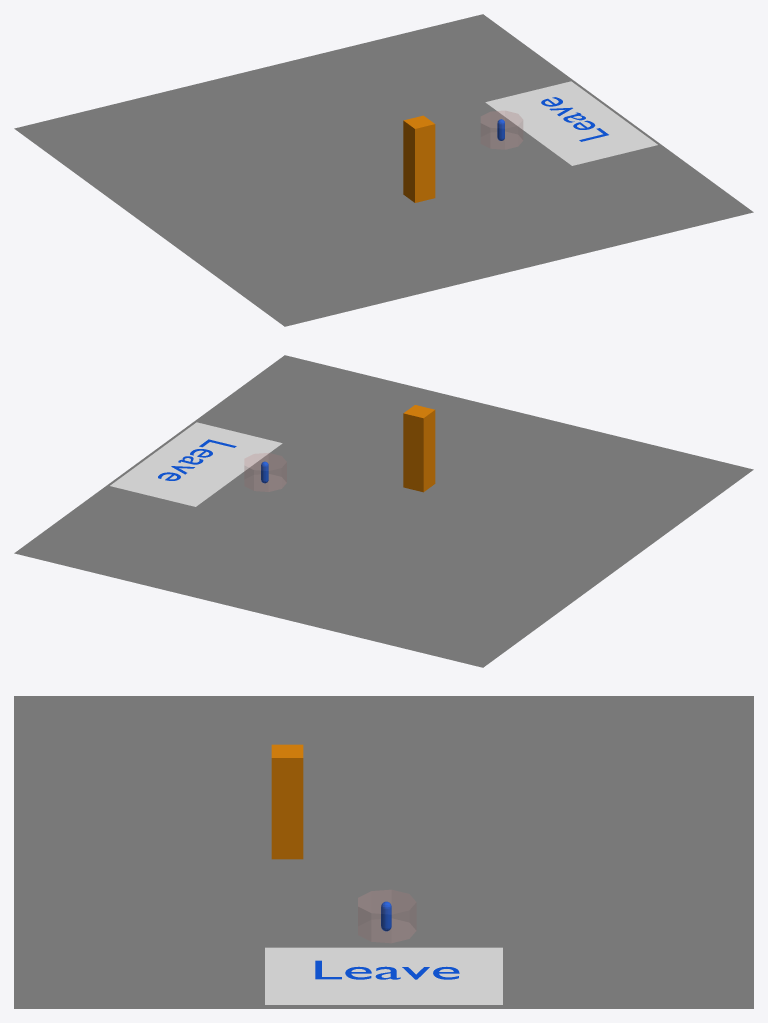
The model's file is __Level1.glb.
3 renders of one model, top to bottom at view 1: azimuth 30°, elevation 25°; view 2: azimuth 150°, elevation 25°; view 3: azimuth 270°, elevation 25°, orthographic. The views are drawn at different scales.
Parts seen in each view (by area): view 1: Ground.001, Plane.004, Pillar_geometry, player_sensor.001, Text; view 2: Ground.001, Plane.004, Pillar_geometry, player_sensor.001, Text; view 3: Ground.001, Plane.004, Pillar_geometry, player_sensor.001, Text.
Boxes of the visible parts, left/top/right/bottom form: Ground.001: left=14, top=14, right=753, bottom=326; Plane.004: left=485, top=81, right=657, bottom=165; Pillar_geometry: left=403, top=115, right=435, bottom=202; player_sensor.001: left=481, top=111, right=522, bottom=149; Text: left=541, top=97, right=608, bottom=141; Ground.001: left=14, top=355, right=753, bottom=667; Plane.004: left=110, top=422, right=282, bottom=506; Pillar_geometry: left=403, top=405, right=435, bottom=492; player_sensor.001: left=244, top=453, right=286, bottom=491; Text: left=158, top=439, right=236, bottom=480; Ground.001: left=14, top=696, right=753, bottom=1008; Plane.004: left=265, top=947, right=502, bottom=1004; Pillar_geometry: left=271, top=744, right=303, bottom=859; player_sensor.001: left=358, top=890, right=416, bottom=942; Text: left=315, top=960, right=459, bottom=979.
Size of what is drawn, in the model's own units: 46.39 by 7 by 46.39.
